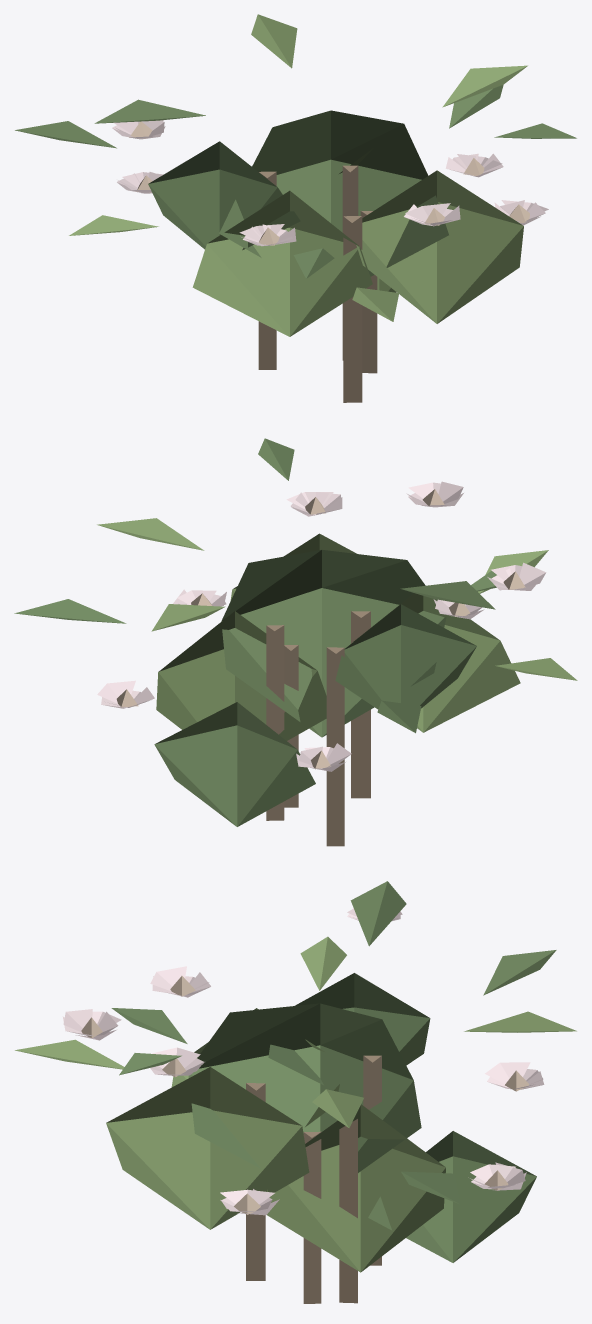
File: guan.huanglu@flowering__summer.glb
3 renders of one model, top to bottom at view 1: azimuth 30°, elevation 25°; view 2: azimuth 150°, elevation 25°; view 3: azimuth 270°, elevation 25°, orthographic. The views are drawn at different scales.
Visible parts, largest first — view 1: guan.huanglu@flowering__summer; view 2: guan.huanglu@flowering__summer; view 3: guan.huanglu@flowering__summer.
Boxes of the visible parts, bbox=[...] form: guan.huanglu@flowering__summer: bbox=[15, 14, 576, 402]; guan.huanglu@flowering__summer: bbox=[14, 438, 577, 846]; guan.huanglu@flowering__summer: bbox=[15, 881, 576, 1303].
Size of the model in its own units: 4.46 by 2.46 by 4.11.
